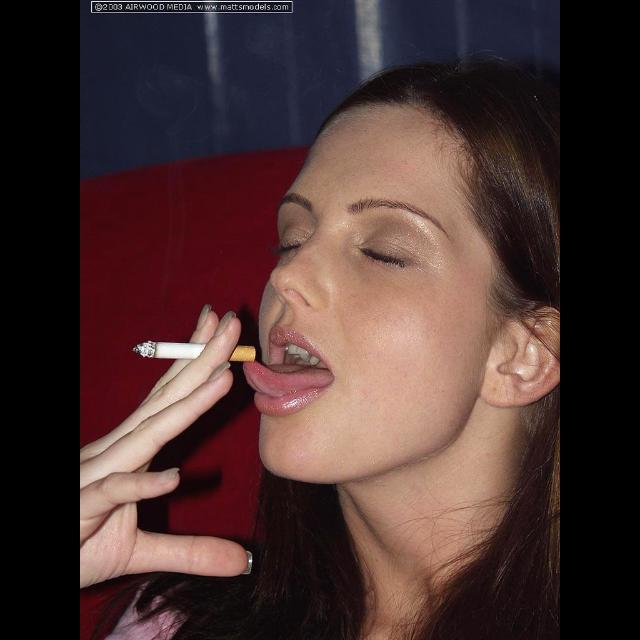rokok: (134, 334, 260, 372)
